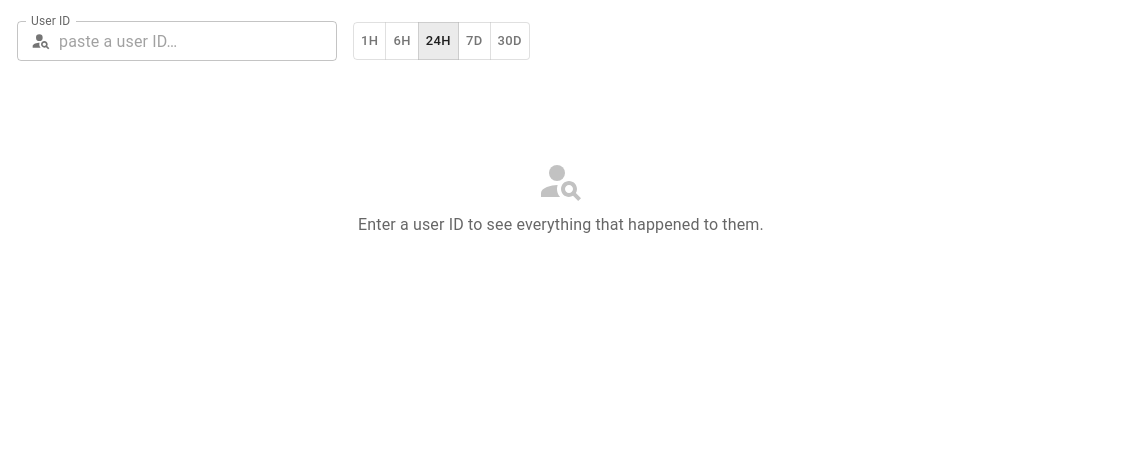
Test: UserExplorer › a slow, stale response does not overwrite a newer lookup
This screenshot has width=1123, height=462.
Type "alice" into the field labelled "User ID". click: (198, 41)
box: [59,21,337,61]
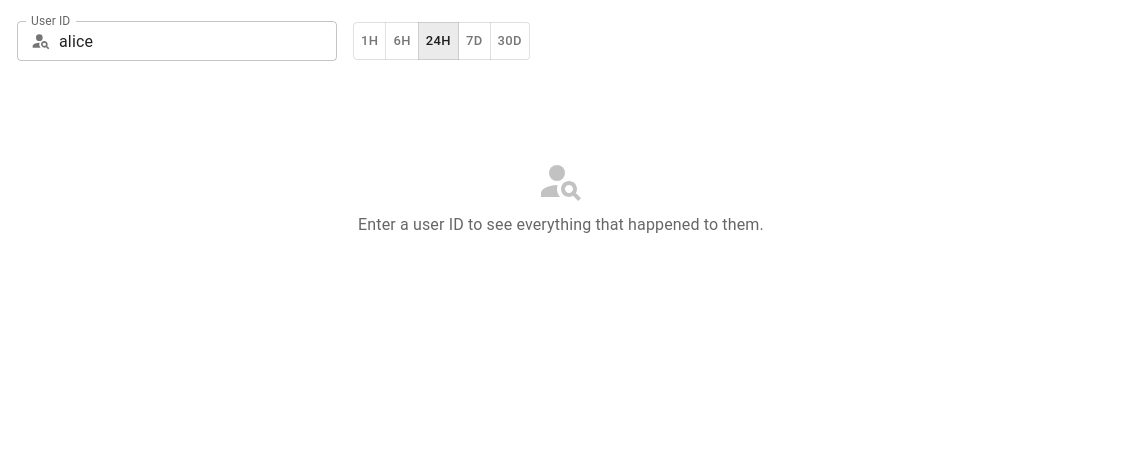
Press Enter in the field labelled "User ID", box [59,21,337,61]
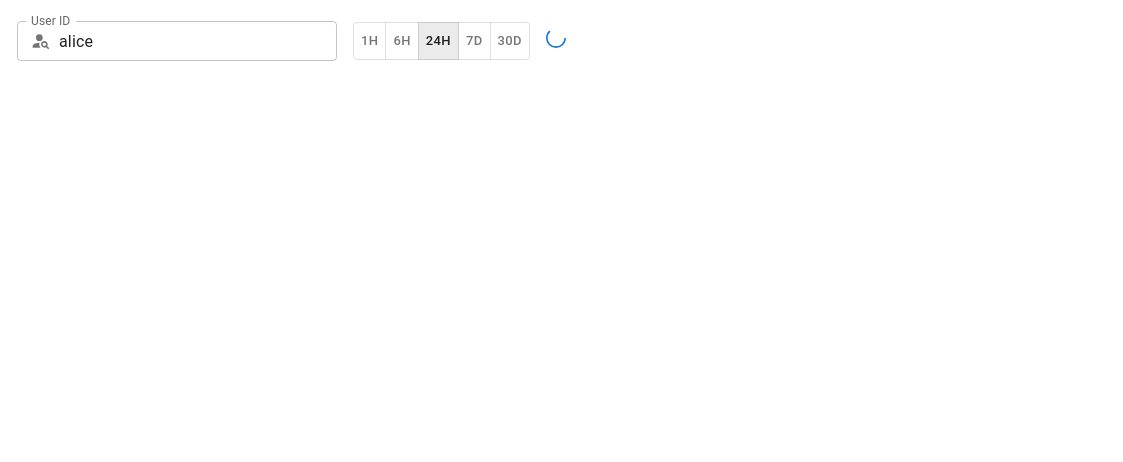
Replace the text in the field labelled "User ID" with "bob". click: (198, 41)
box: [59,21,337,61]
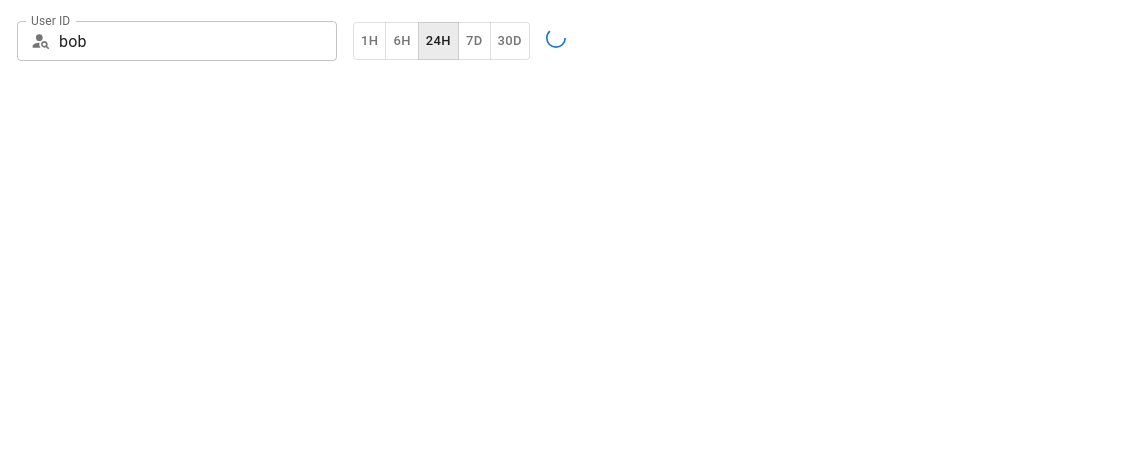
Press Enter in the field labelled "User ID", box [59,21,337,61]
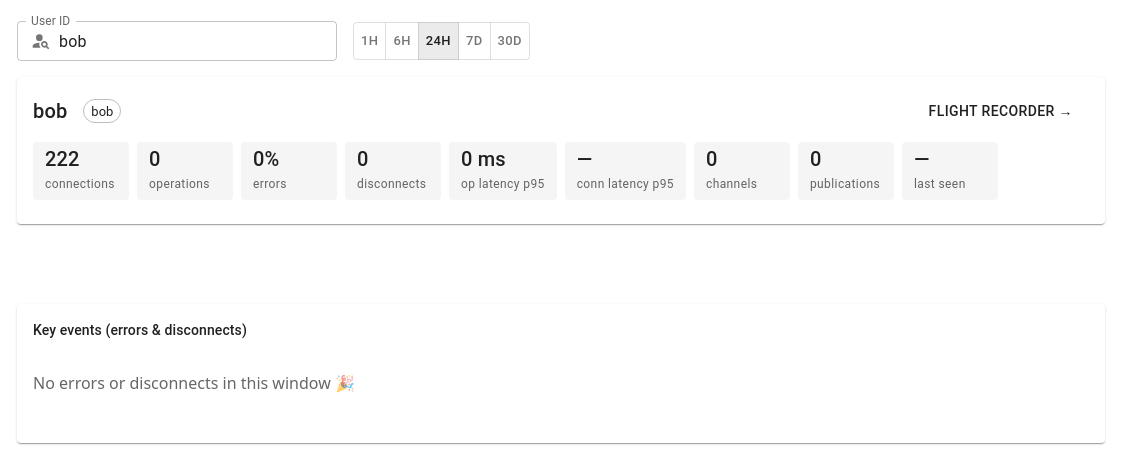
Now the heading "222" is shown, box [45,146,80,170]
